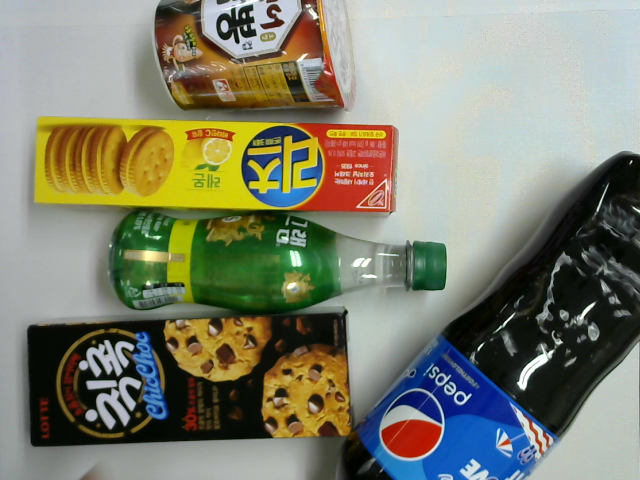Chicchok_Original_2400: (26, 302, 356, 454)
Ojjam: (148, 1, 361, 116)
Pepsi_Cola_1.5L: (333, 149, 638, 480)
Ritz_Remon_96g: (30, 115, 400, 227)
Seagram_Lemon_Carbonated_Water: (111, 205, 450, 320)
